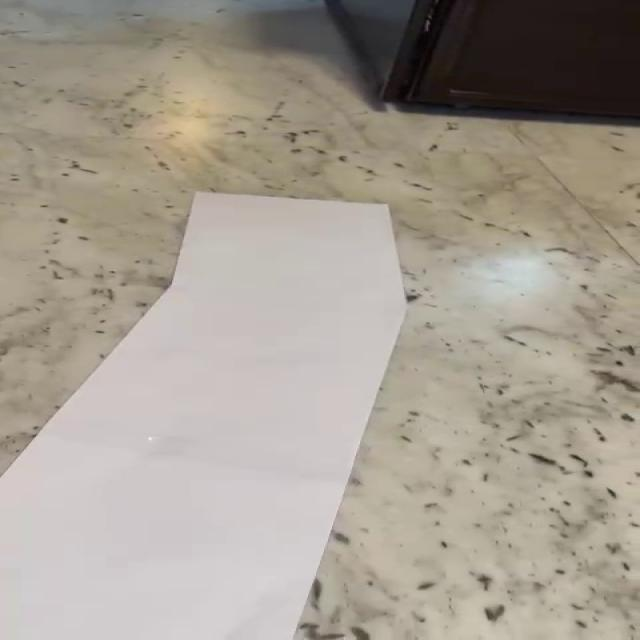road: (1, 192, 404, 640)
